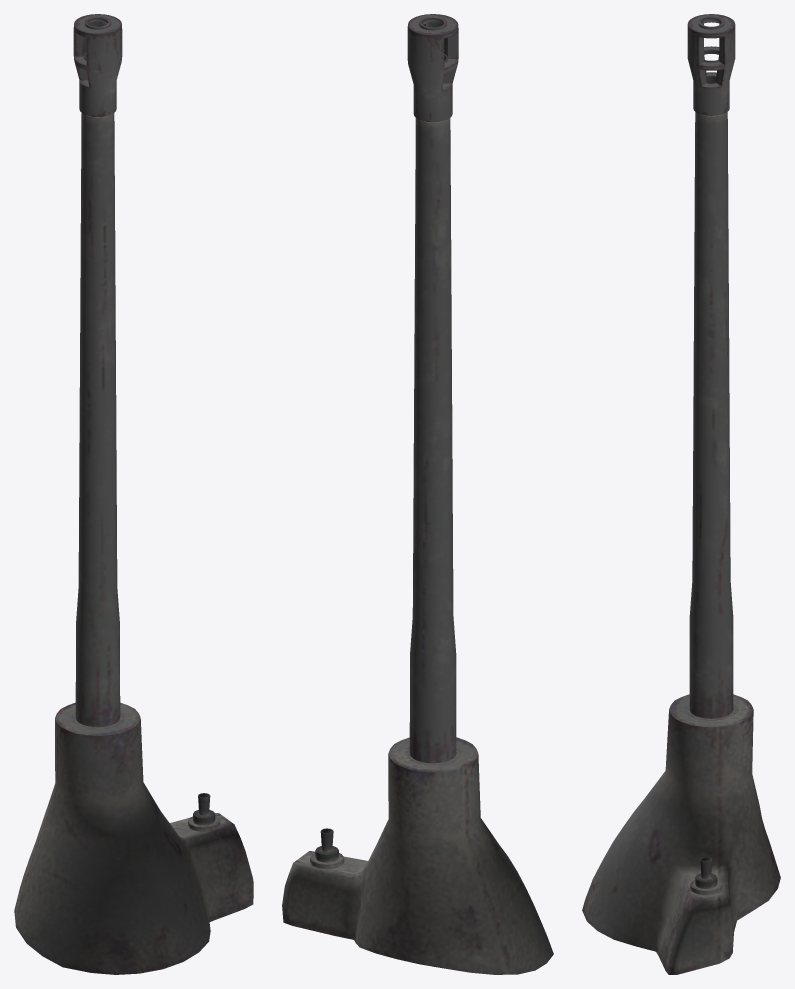
File: Gun_01.glb
The picture shows the model from 3 angles, left to right: view 1: azimuth 30°, elevation 25°; view 2: azimuth 150°, elevation 25°; view 3: azimuth 270°, elevation 25°; orthographic projection. The views are drawn at different scales.
Visible parts, largest first — view 1: set_0_group_0; view 2: set_0_group_0; view 3: set_0_group_0.
Boxes of the visible parts, x1=… form: set_0_group_0: x1=14, y1=14, x2=253, y2=974; set_0_group_0: x1=282, y1=14, x2=553, y2=974; set_0_group_0: x1=582, y1=14, x2=780, y2=974.
Size of the model in its own units: 0.6292 by 2.42 by 0.4893.
1 material, 1 textured.
